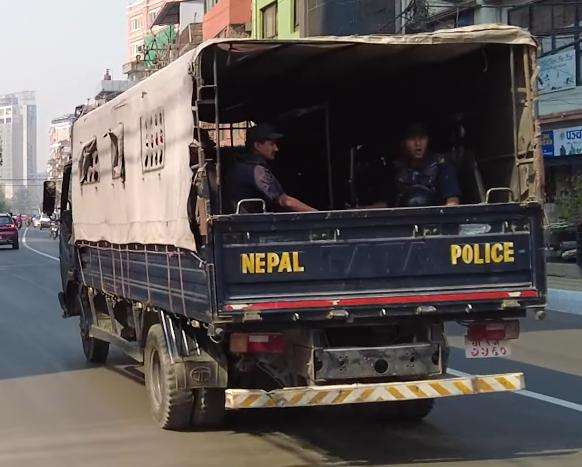police_vehicle: (42, 17, 582, 441)
